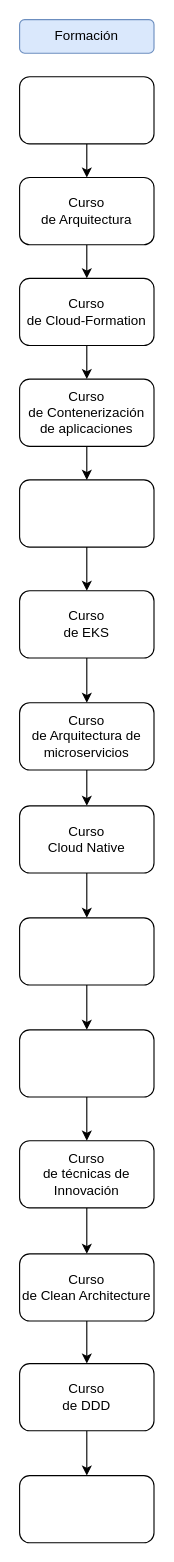
The diagram is 174 pixels wide and 1562 high, and some of its shapes have lost their labels. The shapes that lost their labels are listed below. From the top down, each one's box as (x1, y1, x2, y2) in pixels, then its label:
(18, 76, 154, 144): Certificación AWS Solutions Architect asociate SAA-C03
(18, 479, 154, 547): Curso de Kubernetes
(18, 917, 154, 985): Curso de Graph Ql
(18, 1029, 154, 1097): Curso de Lean
(18, 1474, 154, 1543): Curso de patrones de diseño
